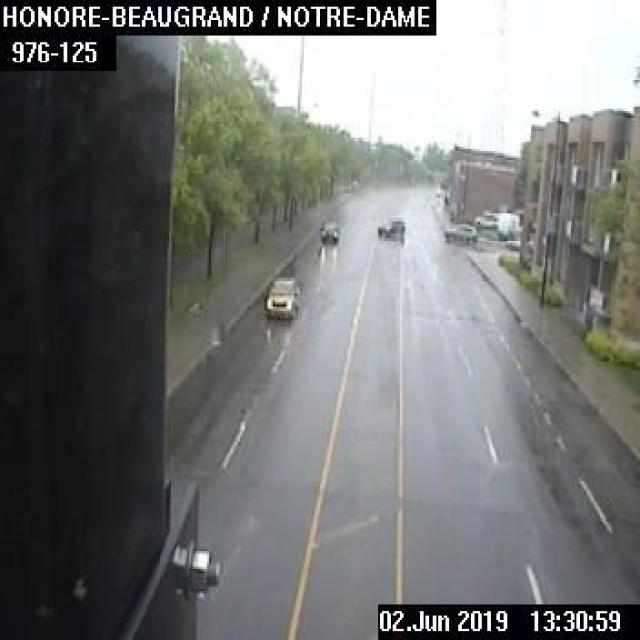vehicle: (263, 275, 299, 318), (442, 220, 478, 241), (374, 214, 404, 238), (494, 210, 518, 236), (318, 220, 338, 242), (473, 210, 496, 226)
